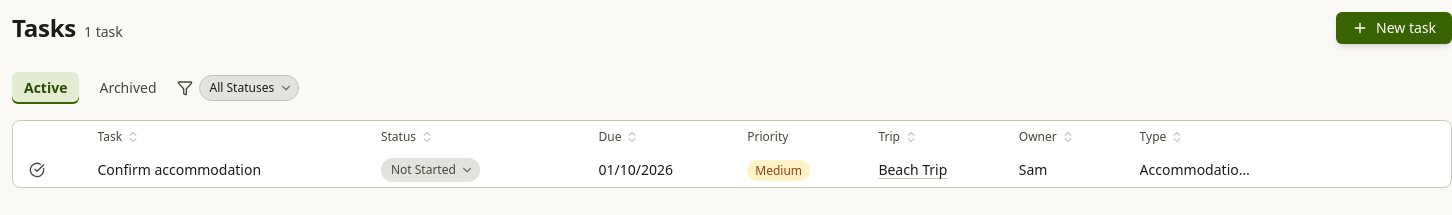
TasksPage — the Mark complete tick › offers the tick to a role that can write, and shows the row alert when the save fails
The image size is (1452, 215).
Click the button named "Mark complete": (37,170) [25, 158, 49, 182]
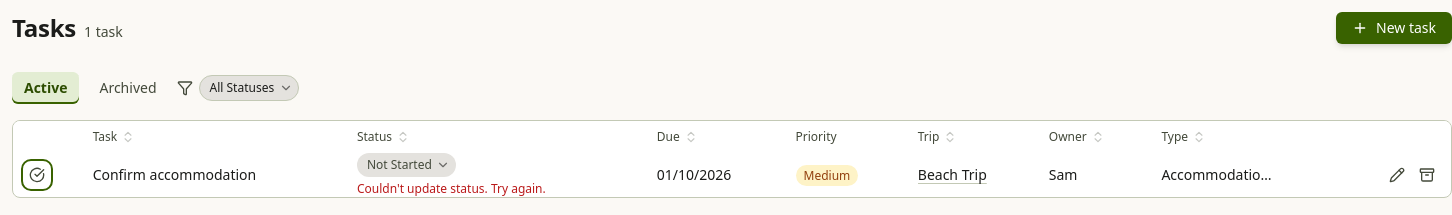
Check: the message reads "Couldn't update status. Try again.", box [357, 180, 546, 197]
